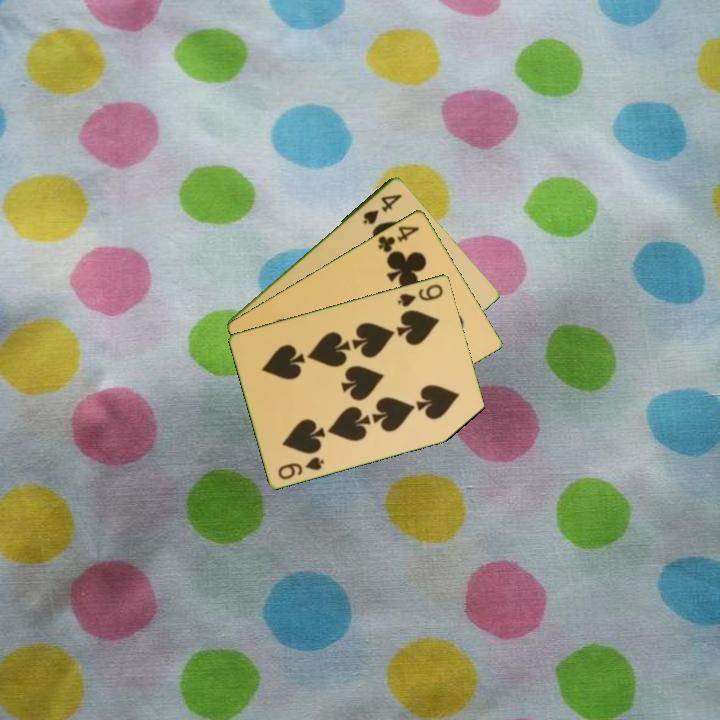4c: (374, 222, 422, 255)
4s: (359, 190, 405, 227)
9s: (274, 453, 327, 482), (394, 280, 446, 309)
